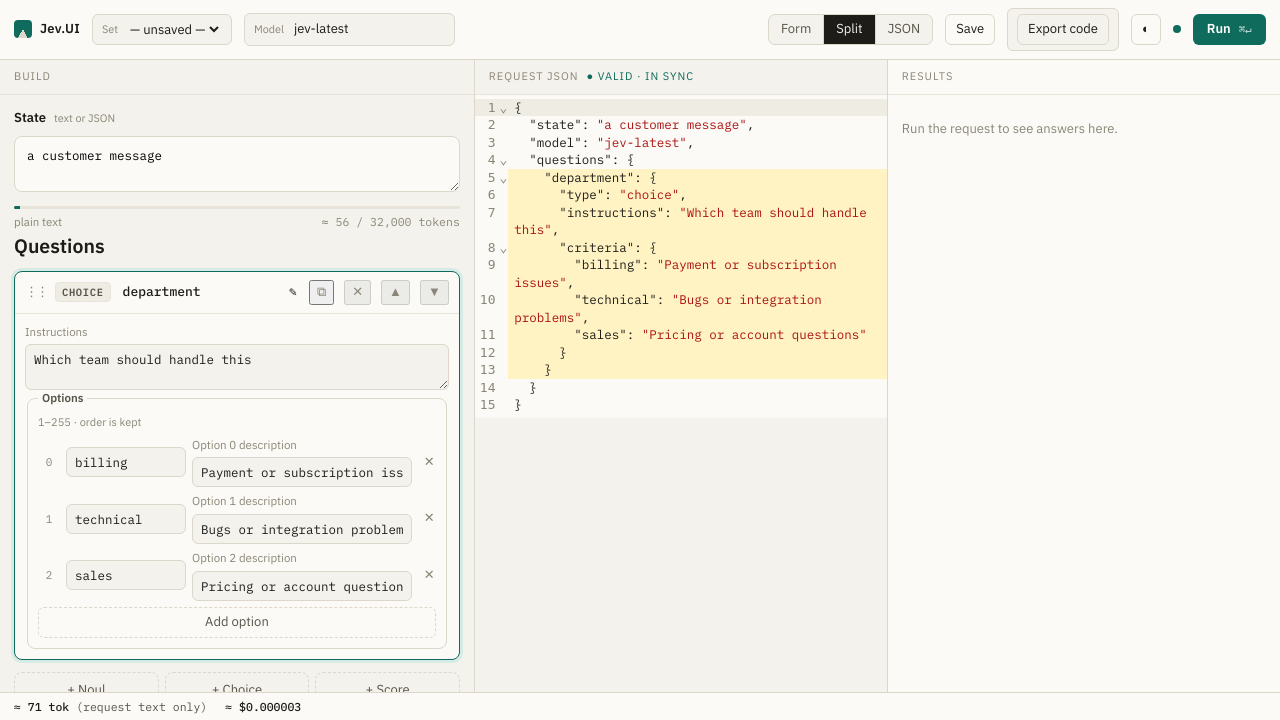
Test: Workbench shell › runs and renders the answer in Results, with the model shown in the status bar
Click the button "Run ⌘↵" at {"x": 1229, "y": 29}, box x1=1193 y1=14 x2=1266 y2=45
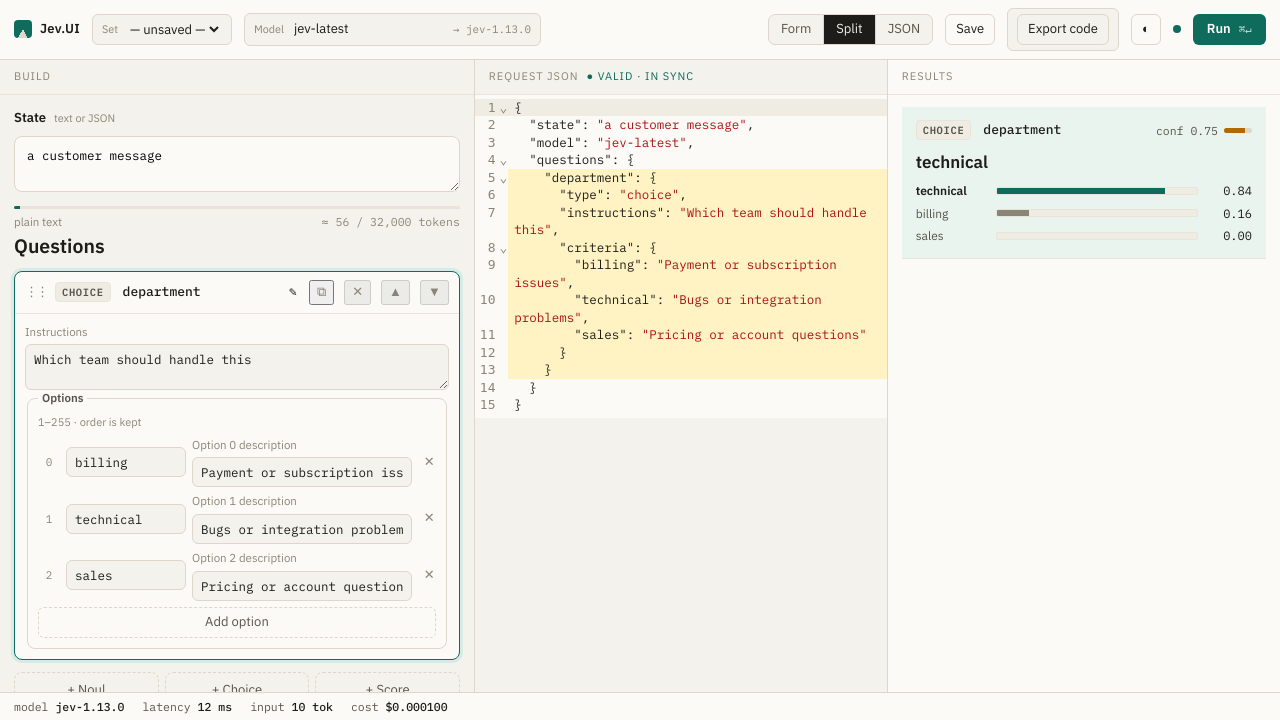
Expected: the 1st text "technical" is shown, x1=916 y1=151 x2=988 y2=173
Expected: the footer shows "jev-1.13.0", x1=55 y1=699 x2=124 y2=714
